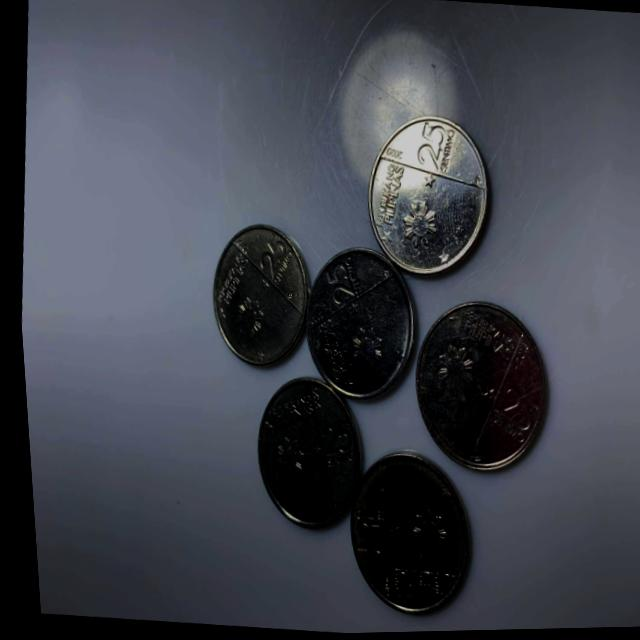25Cent_New_Front: (407, 123, 448, 172), (491, 386, 532, 431), (316, 262, 351, 304), (344, 516, 379, 558), (252, 235, 283, 281), (310, 418, 345, 457)
